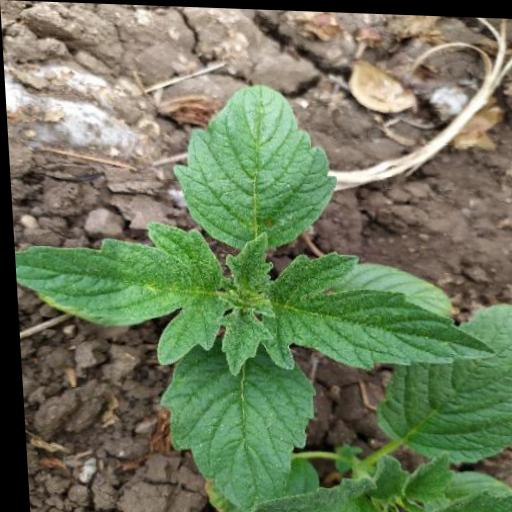crop: (2, 48, 496, 512)
